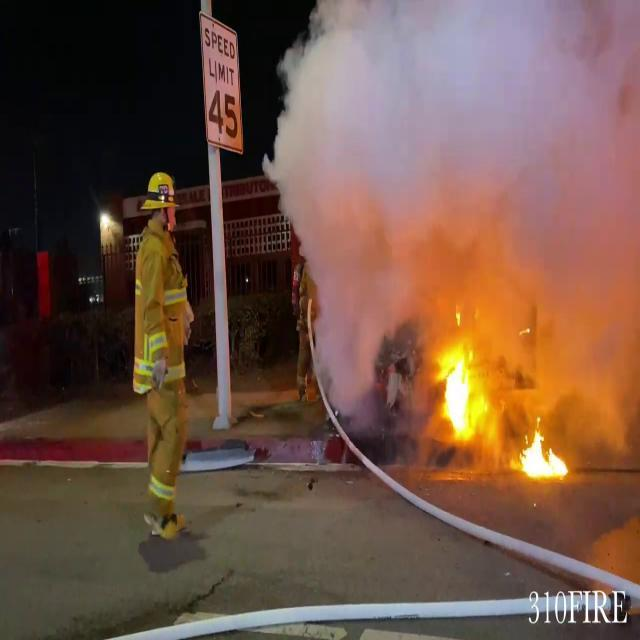Fire: (432, 327, 486, 445), (510, 416, 576, 486)
Smoke: (262, 0, 640, 392)
